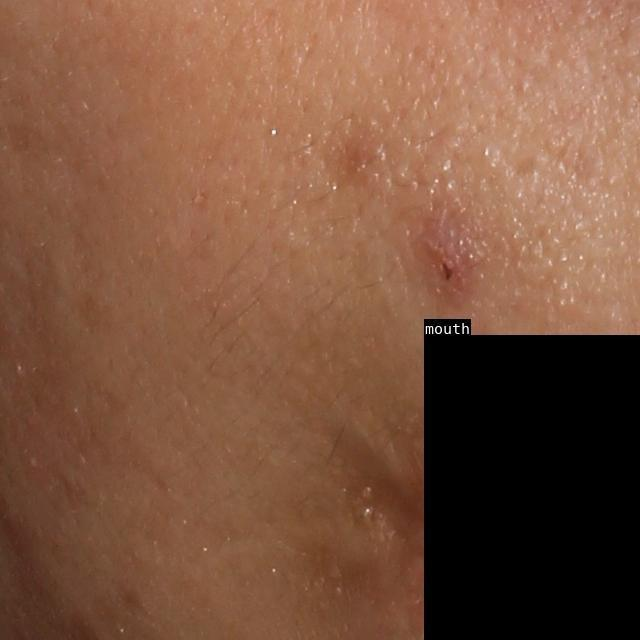papule: (418, 223, 485, 298)
